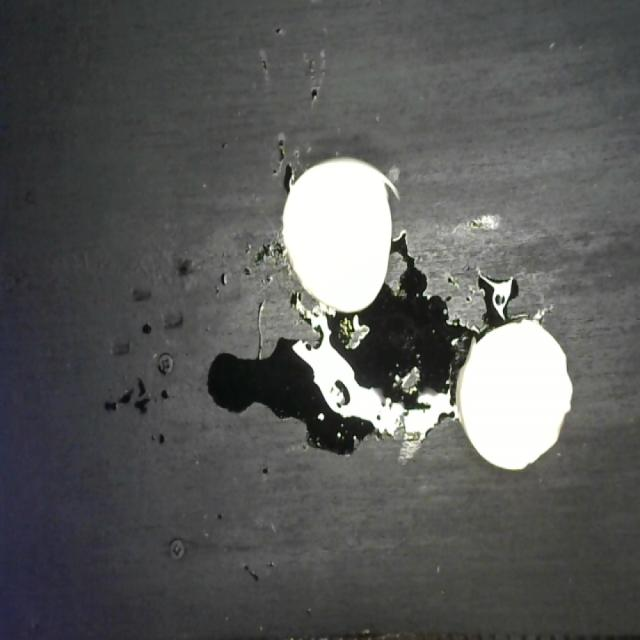biodegradable: (278, 152, 573, 478)
